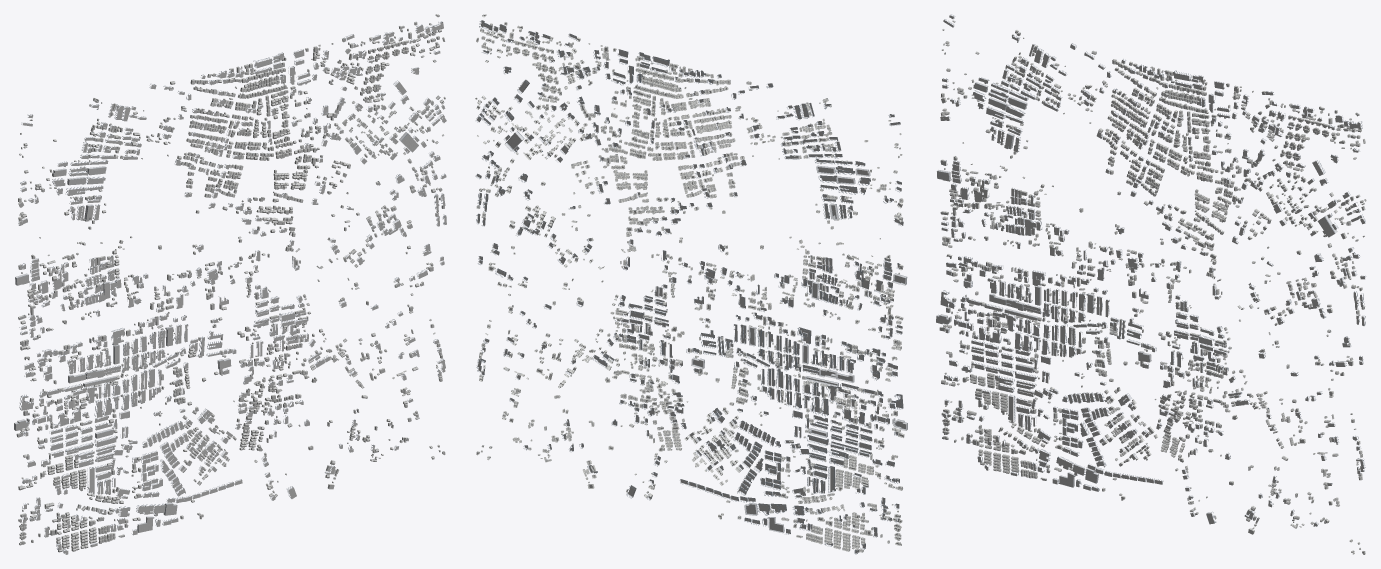
Rendered from buildings_0_2.obj.
3 views of the same model, side by side, from view 1: azimuth 30°, elevation 25°; view 2: azimuth 150°, elevation 25°; view 3: azimuth 330°, elevation 25° (orthographic).
Bounding box in the file's own units: 2025 × 2019 × 27.
5 materials, 5 textured.
